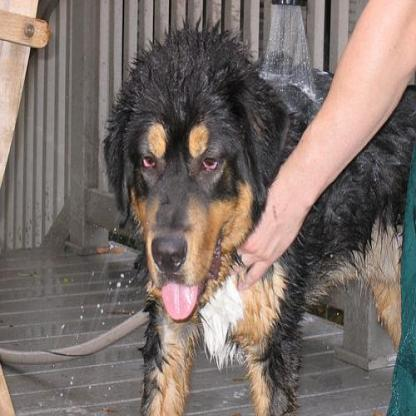Tibetan_mastiff: (101, 14, 414, 414)
